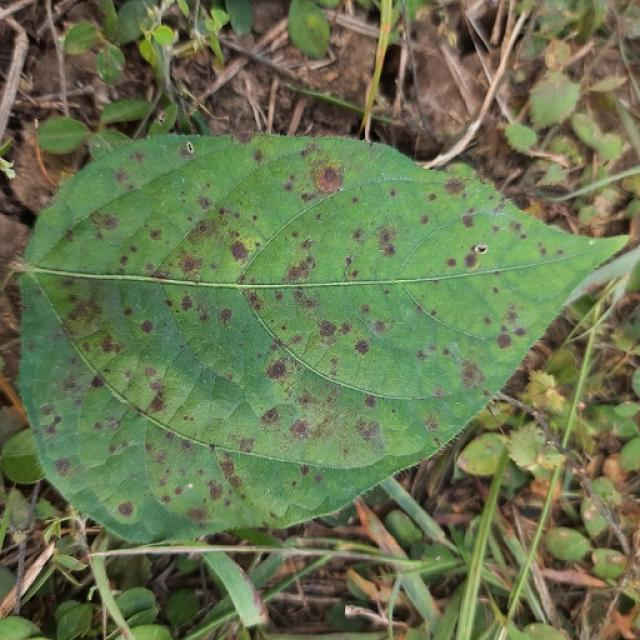Anthracnose: (249, 360, 385, 465), (64, 291, 116, 338), (299, 157, 352, 199), (238, 288, 318, 314), (185, 191, 230, 237), (498, 209, 537, 244), (434, 366, 488, 391), (284, 248, 317, 281), (146, 367, 169, 413), (39, 400, 64, 440), (373, 225, 400, 259), (79, 206, 117, 230), (52, 454, 75, 480), (229, 240, 249, 262), (288, 419, 309, 439), (180, 255, 200, 274), (267, 360, 287, 379), (317, 320, 337, 339), (178, 141, 196, 160), (261, 407, 279, 425), (207, 482, 223, 501), (495, 332, 512, 349), (353, 339, 370, 355), (117, 501, 134, 517), (219, 307, 233, 326), (139, 319, 154, 334), (464, 253, 478, 268), (372, 320, 387, 333), (461, 214, 474, 228), (474, 244, 488, 255), (419, 214, 430, 225), (446, 258, 457, 268), (344, 256, 353, 266)
Blackgram: (19, 135, 626, 542)
